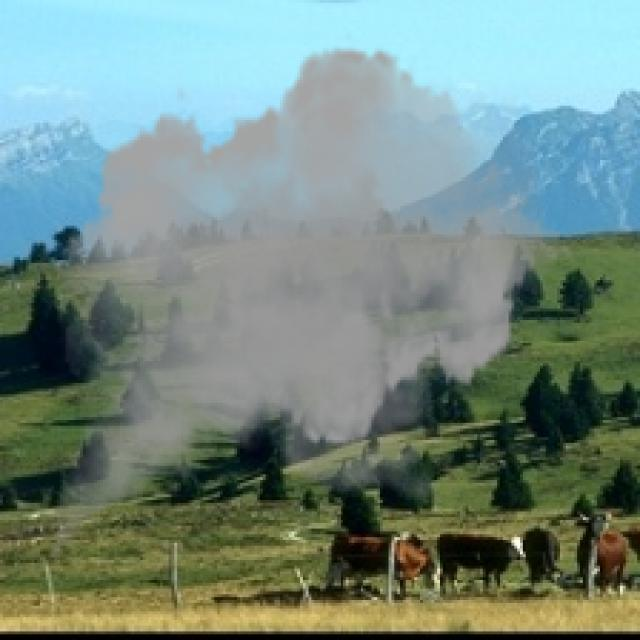smoke: (34, 31, 574, 588)
